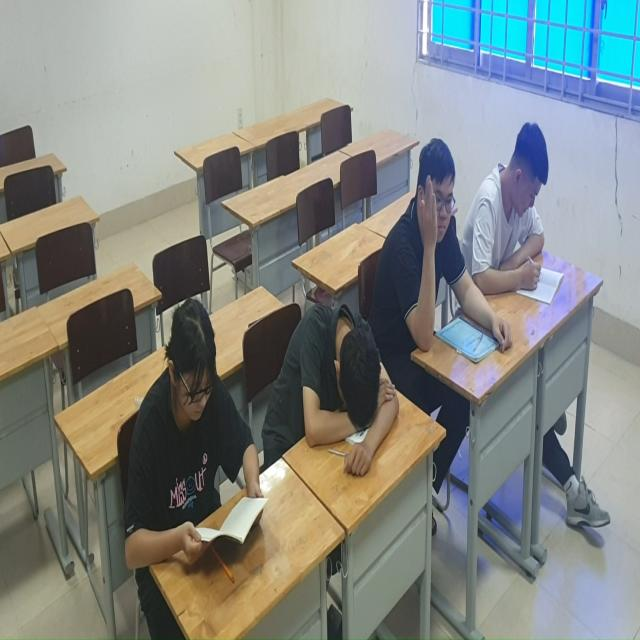raise_hand: (387, 138, 470, 380)
read: (124, 295, 268, 569), (478, 121, 566, 316)
sleep: (273, 298, 400, 485)
